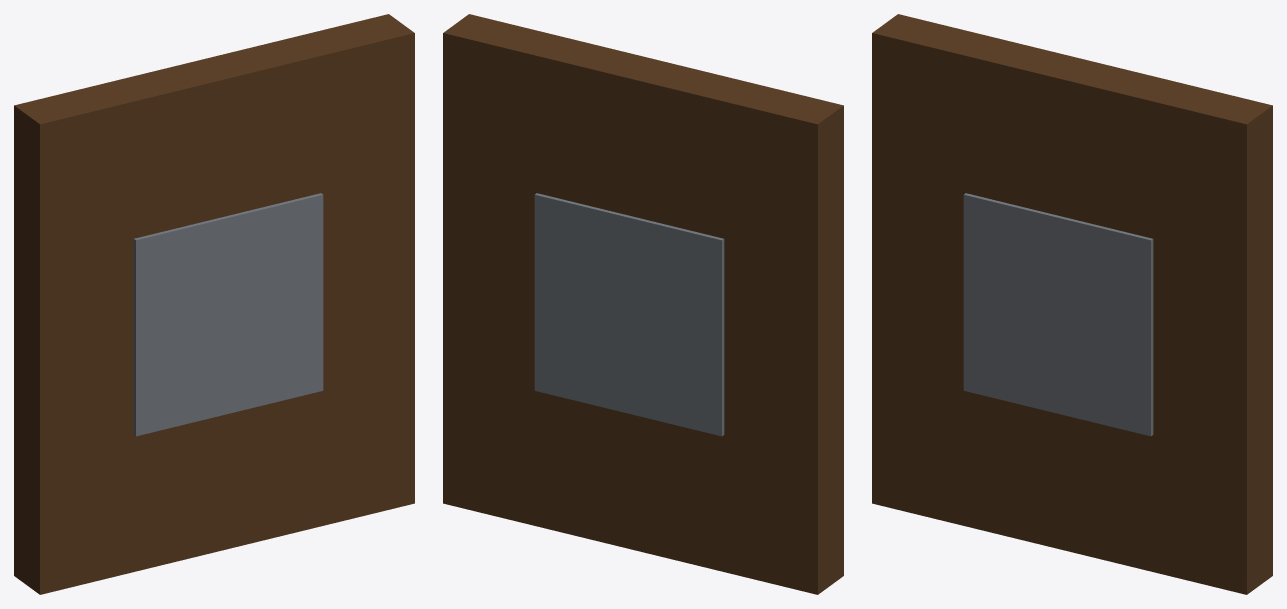
File: good_30.glb
3 views of the same model, side by side, from view 1: azimuth 30°, elevation 25°; view 2: azimuth 150°, elevation 25°; view 3: azimuth 330°, elevation 25° (orthographic).
Visible parts, largest first — view 1: good_30; view 2: good_30; view 3: good_30.
Part boxes in pixels (left/top/right/bottom): good_30: left=14, top=14, right=414, bottom=594; good_30: left=443, top=14, right=843, bottom=594; good_30: left=872, top=14, right=1272, bottom=594.
Size of the model in its own units: 0.1 by 0.12 by 0.014.
